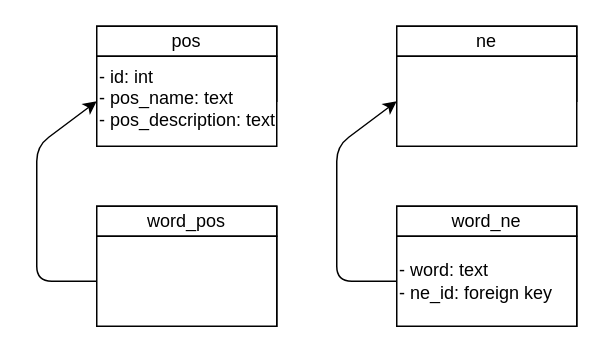
The diagram is 603 pixels wide and 353 high, and some of its shapes have lost their labels. Here are the shapes that lost their labels. From the top down, the centre of each, then its label:
pixel 486 100: - id: int - en_name: text - en_description: text
pixel 186 280: - word: text - pos_id: foreign key
